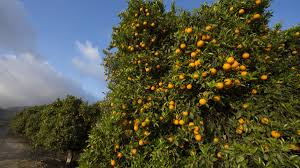orange: (209, 66, 217, 76)
